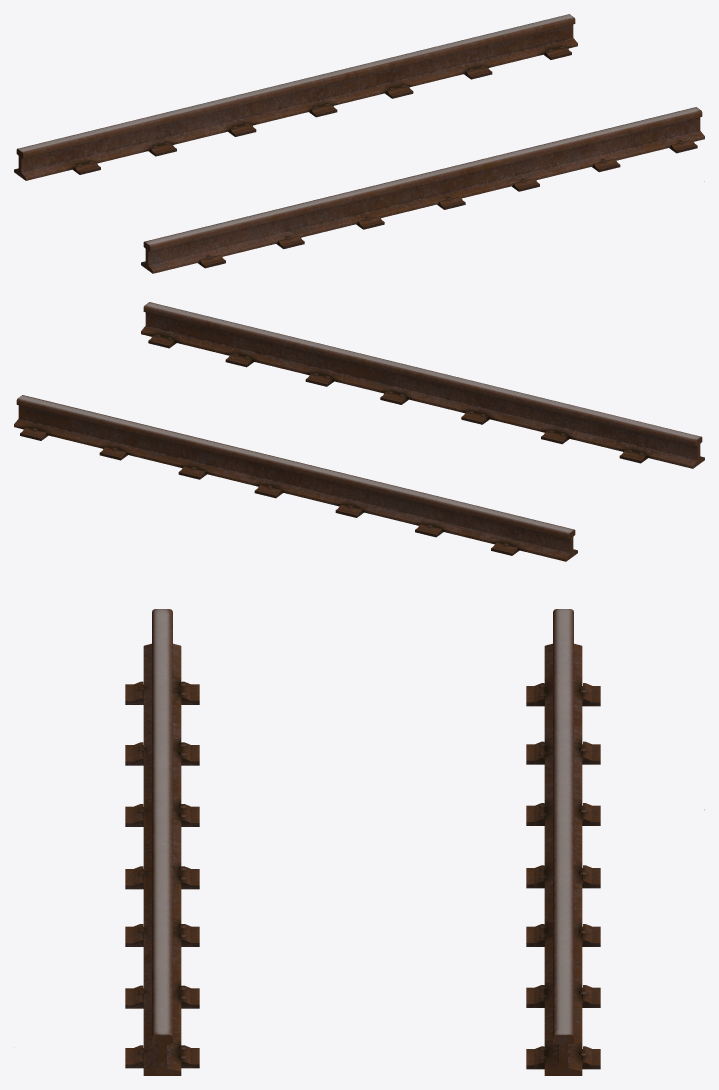
Rendered from rail.glb.
The picture shows the model from 3 angles, top to bottom: view 1: azimuth 30°, elevation 25°; view 2: azimuth 150°, elevation 25°; view 3: azimuth 270°, elevation 25°; orthographic projection. The views are drawn at different scales.
Parts seen in each view (by area): view 1: railroad_gav_railroad_gav_0; view 2: railroad_gav_railroad_gav_0; view 3: railroad_gav_railroad_gav_0.
Part boxes in pixels (x1,y1,x2,y2): railroad_gav_railroad_gav_0: (14,14,704,273); railroad_gav_railroad_gav_0: (14,302,704,561); railroad_gav_railroad_gav_0: (125,609,704,1075).
Bounding box in the file's own units: 4 × 0.3716 × 2.74.
1 material, 1 textured.
